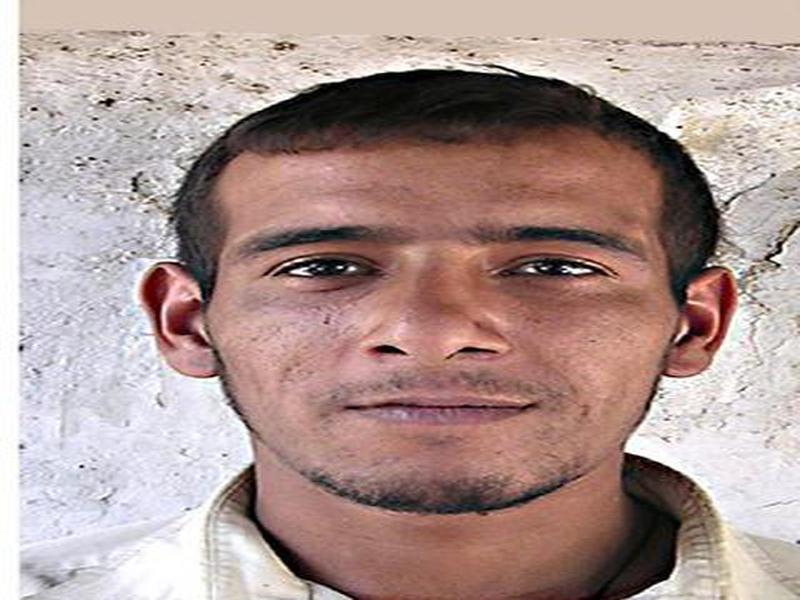without_mask: (210, 150, 666, 506)
